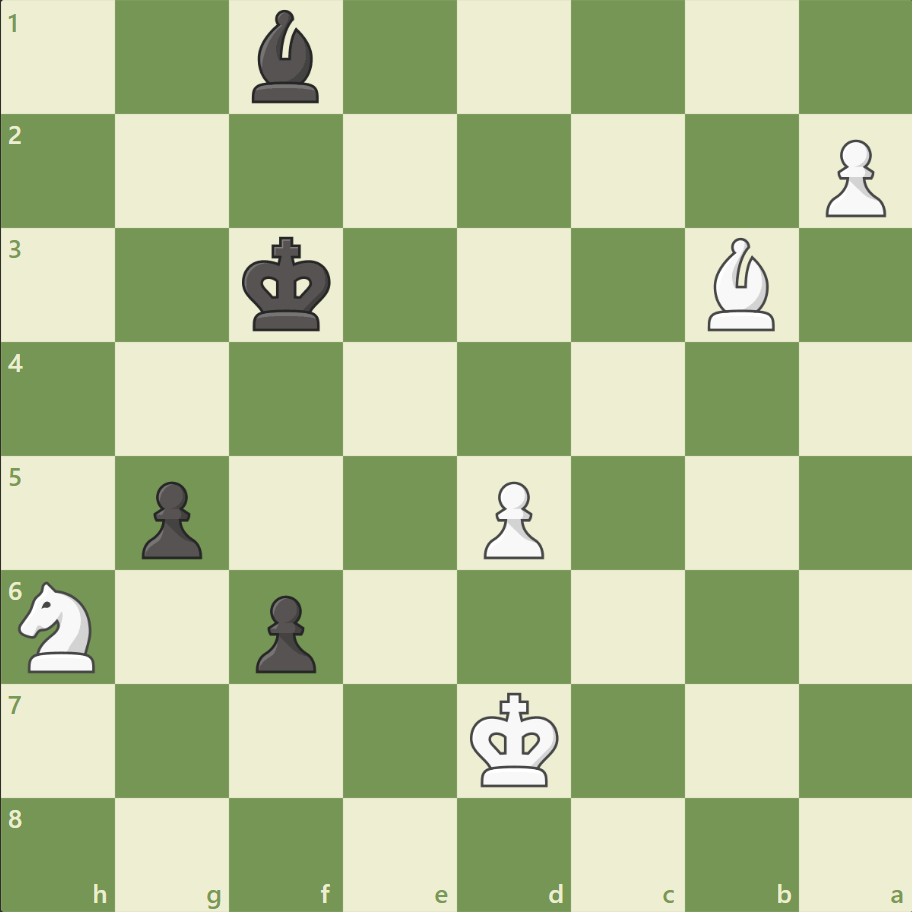B: (698, 233, 782, 336)
K: (465, 685, 565, 793)
N: (11, 575, 108, 677)
P: (474, 473, 549, 564), (815, 132, 889, 223)
b: (244, 6, 328, 109)
k: (238, 231, 338, 339)
p: (247, 586, 322, 677), (133, 473, 208, 564)
